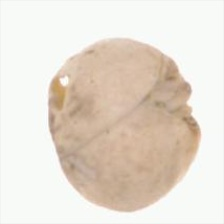L3: (148, 53, 200, 135)
L4: (48, 38, 202, 213)
